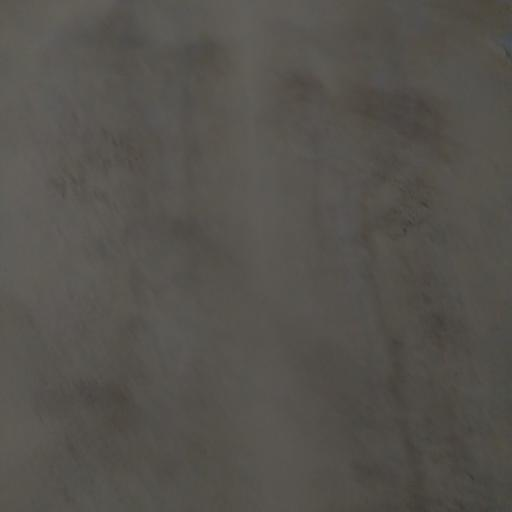stain: (62, 26, 512, 499)
